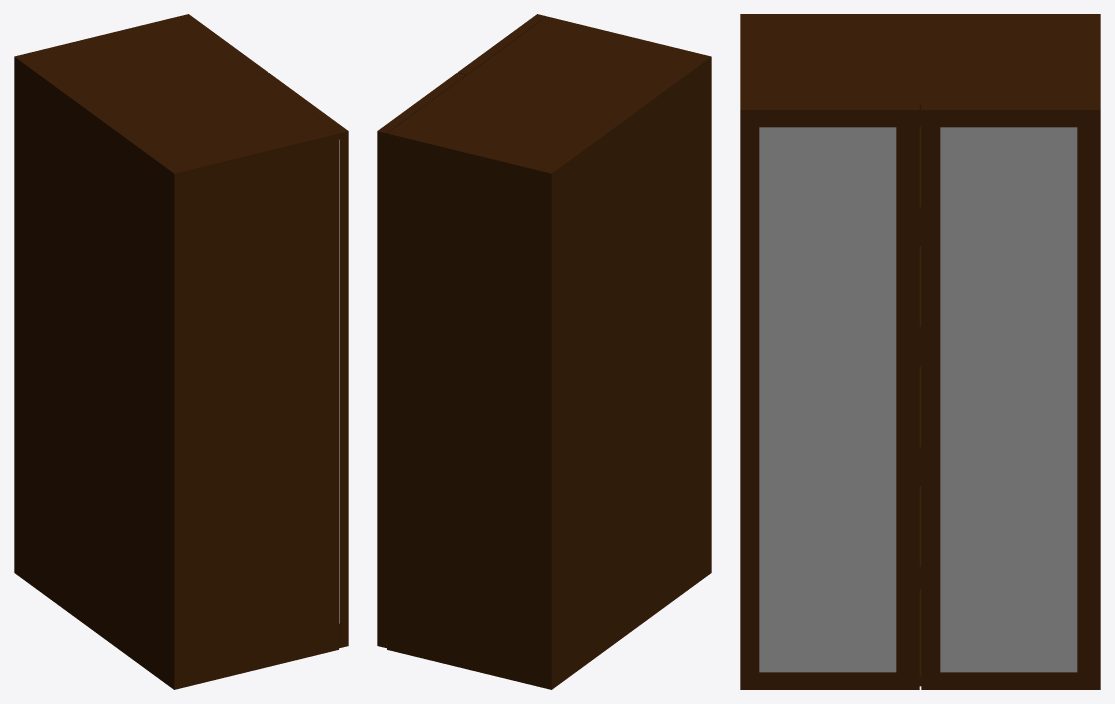
File: GlassCupboard 1.fbx
3 renders of one model, left to right at view 1: azimuth 30°, elevation 25°; view 2: azimuth 150°, elevation 25°; view 3: azimuth 270°, elevation 25°, orthographic. The views are drawn at different scales.
Parts seen in each view (by area): view 1: pCube1, polySurface2, pCube5, pCube2, pCube3, pCube4, polySurface4; view 2: pCube1, polySurface4, pCube4, pCube5, pCube2, pCube3, polySurface2; view 3: polySurface1, polySurface3, pCube1, polySurface2, polySurface4.
Part boxes in pixels (x1,y1,x2,y2): pCube1: (14,16,338,689); polySurface2: (259,73,348,648); pCube5: (18,477,171,596); pCube2: (18,157,171,277); pCube3: (18,263,171,383); pCube4: (19,373,171,490); polySurface4: (179,14,268,74); pCube1: (387,16,711,689); polySurface4: (377,73,466,647); pCube4: (555,369,708,489); pCube5: (555,475,708,595); pCube2: (555,156,708,276); pCube3: (555,262,708,382); polySurface2: (457,14,546,74); polySurface1: (759,127,896,672); polySurface3: (940,127,1077,672); pCube1: (740,14,1100,686); polySurface2: (740,104,919,689); polySurface4: (921,104,1100,689).
Size of the model in its own units: 1.06 by 3 by 1.68.
